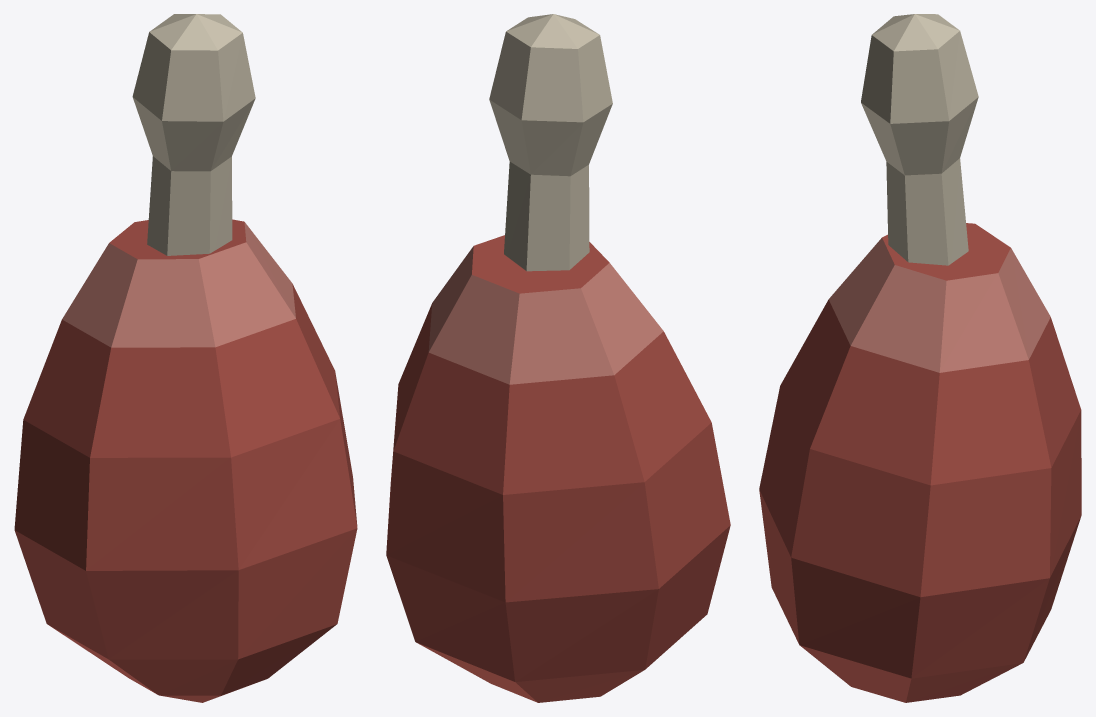
File: meat.gltf
The picture shows the model from 3 angles, left to right: view 1: azimuth 30°, elevation 25°; view 2: azimuth 150°, elevation 25°; view 3: azimuth 270°, elevation 25°; orthographic projection.
Parts seen in each view (by area): view 1: meat; view 2: meat; view 3: meat.
Boxes of the visible parts, left/top/right/bottom form: meat: left=14, top=14, right=357, bottom=702; meat: left=386, top=14, right=730, bottom=702; meat: left=759, top=14, right=1081, bottom=702.
Bounding box in the file's own units: 0.1426 × 0.3081 × 0.1311.
